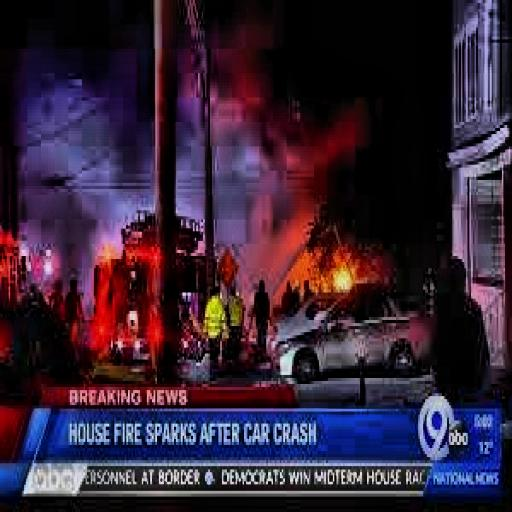fire: (298, 234, 374, 298)
